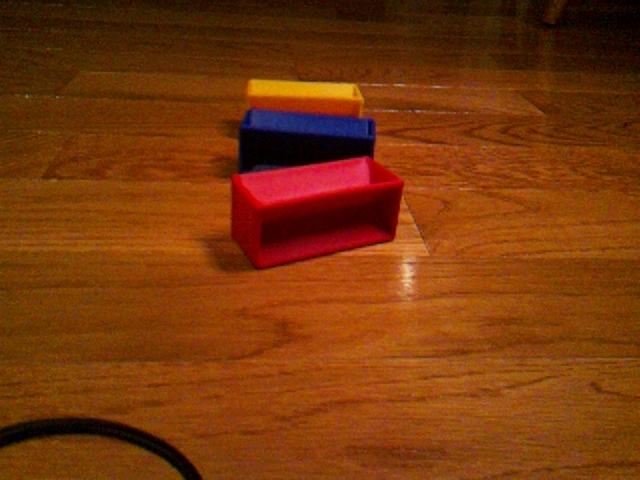blue: (237, 107, 377, 172)
red: (230, 155, 405, 270)
yellow: (246, 77, 365, 118)
